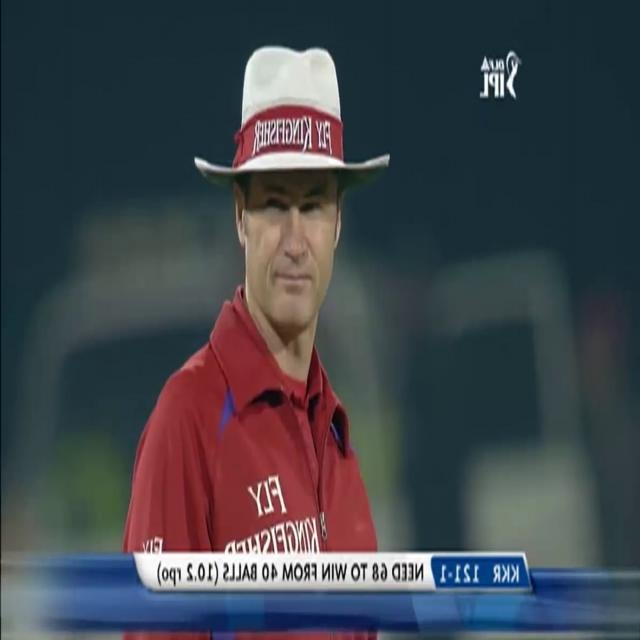No_Action: (117, 43, 399, 559)
